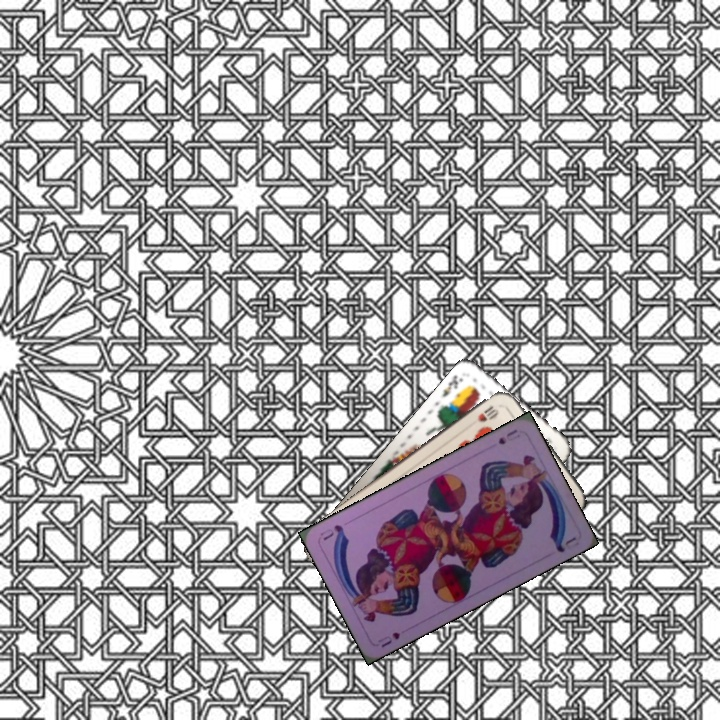EK: (438, 371, 466, 400)
H10: (473, 401, 501, 424)
SU: (374, 628, 403, 650), (494, 425, 522, 447)
